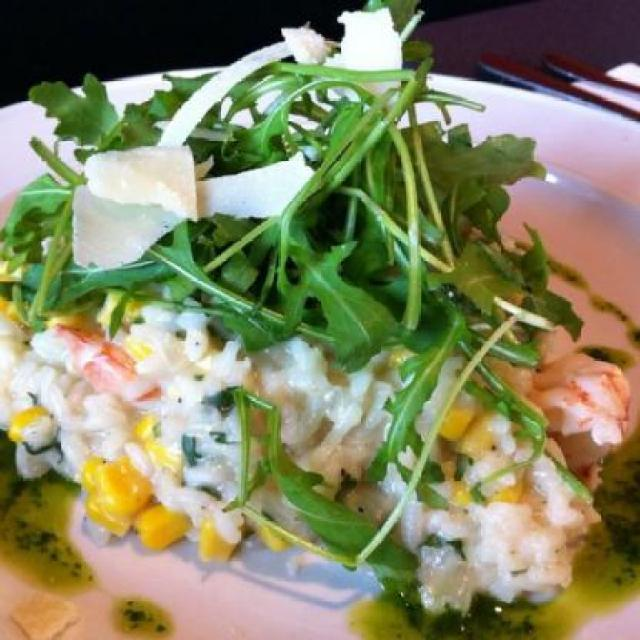Risotto: (9, 284, 614, 608)
